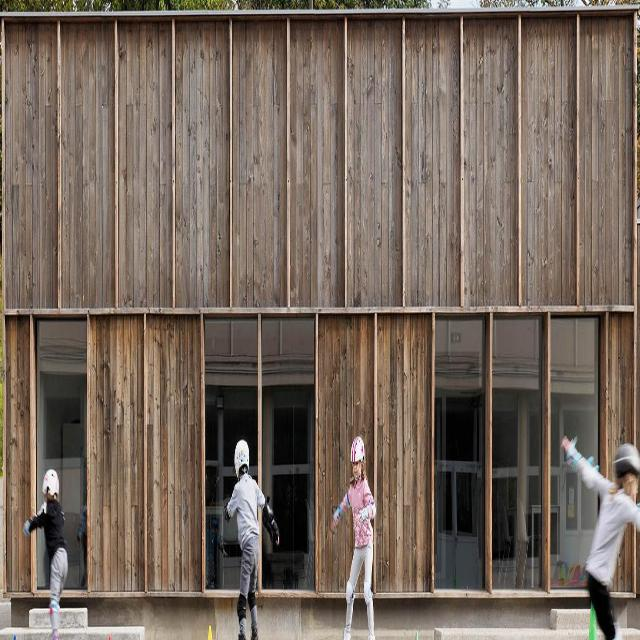wall: (1, 7, 636, 634)
windows: (434, 320, 594, 584), (201, 309, 315, 593), (31, 312, 88, 588)
